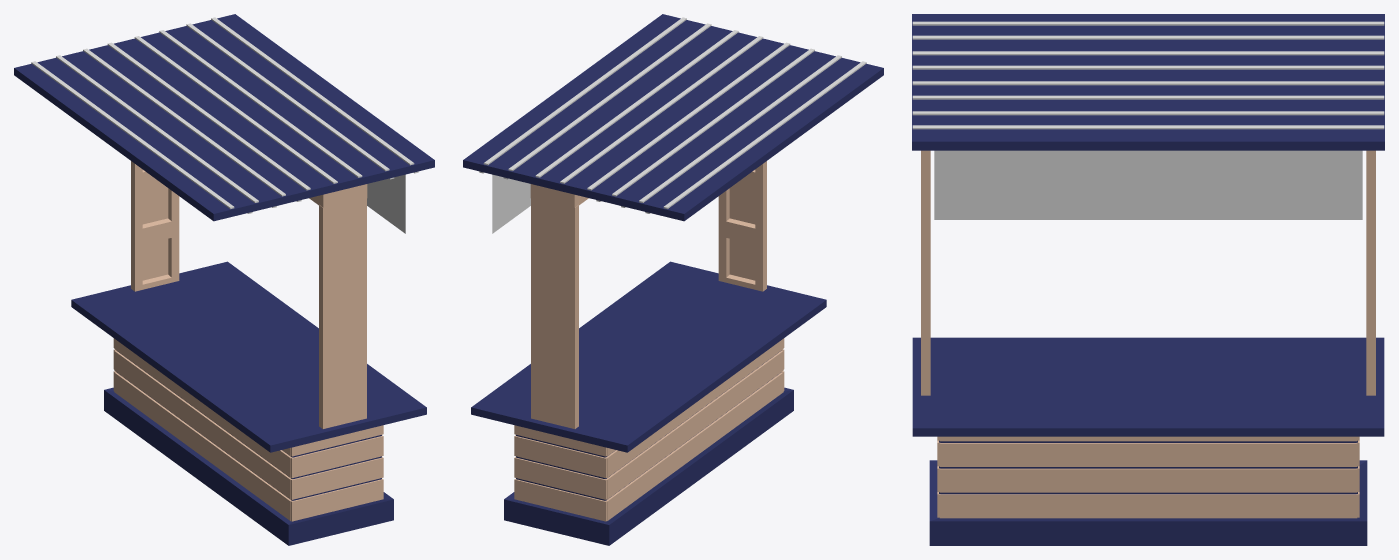
Rendered from booth2.7.fbx.
The picture shows the model from 3 angles, left to right: view 1: azimuth 30°, elevation 25°; view 2: azimuth 150°, elevation 25°; view 3: azimuth 270°, elevation 25°; orthographic projection. The views are drawn at different scales.
Visible parts, largest first — view 1: Cube.013, Cube, Cube.006, Cube.017, Cube.016, Cube.018, Plane.001, Cube.012; view 2: Cube.013, Cube, Cube.006, Cube.017, Cube.016, Cube.018, Plane.001, Cube.012; view 3: Cube, Cube.013, Cube.017, Plane.001, Cube.016, Cube.006.
Part boxes in pixels (<box>): Cube.013: <box>14,14,434,221</box>; Cube: <box>71,261,426,545</box>; Cube.006: <box>131,161,366,428</box>; Cube.017: <box>114,339,291,520</box>; Cube.016: <box>31,17,414,208</box>; Cube.018: <box>113,338,383,521</box>; Plane.001: <box>367,174,405,233</box>; Cube.012: <box>309,184,367,208</box>; Cube.013: <box>463,14,883,221</box>; Cube: <box>471,261,826,545</box>; Cube.006: <box>531,161,766,428</box>; Cube.017: <box>606,339,783,520</box>; Cube.016: <box>483,17,866,208</box>; Cube.018: <box>514,338,784,521</box>; Plane.001: <box>492,174,530,233</box>; Cube.012: <box>530,184,588,208</box>; Cube: <box>912,337,1384,545</box>; Cube.013: <box>912,14,1384,150</box>; Cube.017: <box>939,436,1357,518</box>; Plane.001: <box>934,150,1362,219</box>; Cube.016: <box>912,21,1384,129</box>; Cube.006: <box>921,150,1375,395</box>.
Size of the model in its own units: 825 by 1280 by 1289.
